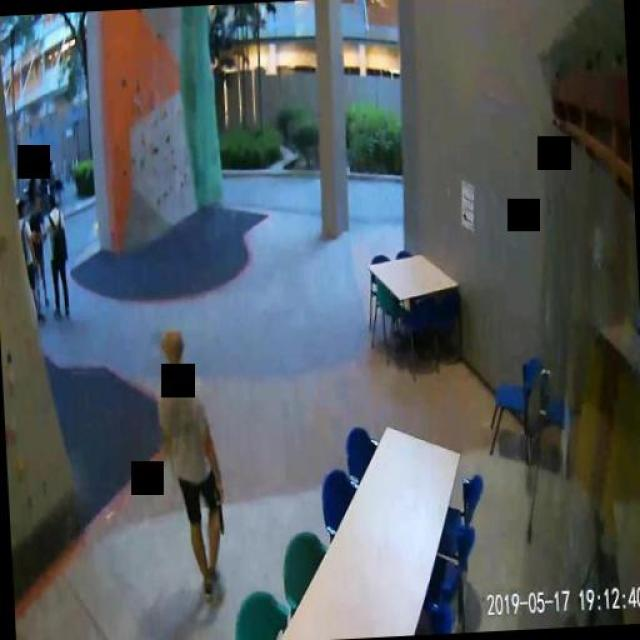gun: (212, 482, 224, 532)
